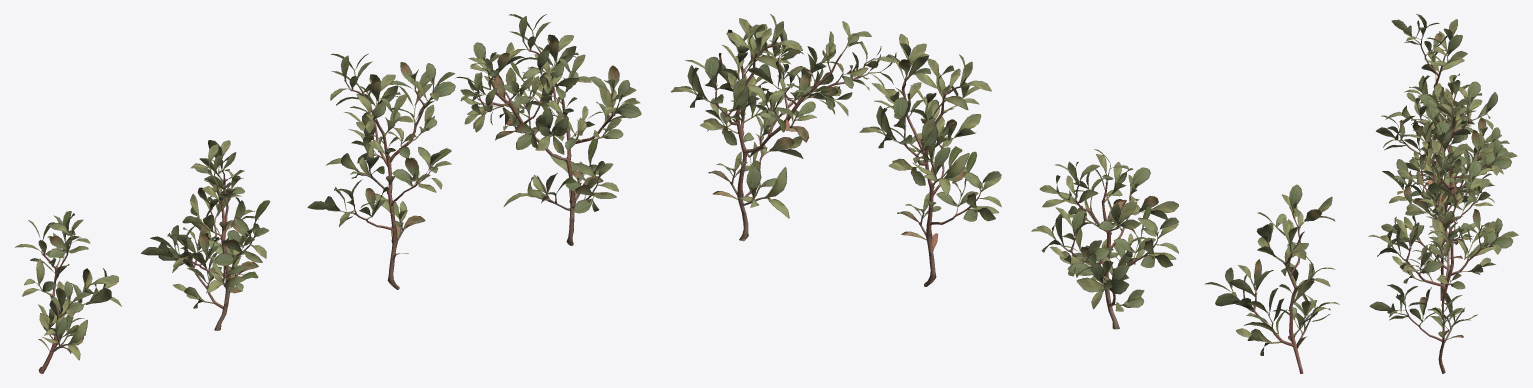
File: shrub_04.gltf
3 renders of one model, left to right at view 1: azimuth 30°, elevation 25°; view 2: azimuth 150°, elevation 25°; view 3: azimuth 270°, elevation 25°, orthographic. The views are drawn at different scales.
Visible parts, largest first — view 1: shrub_04; view 2: shrub_04; view 3: shrub_04.
Part boxes in pixels (x1,y1,x2,y2): shrub_04: [15, 14, 641, 373]; shrub_04: [671, 14, 1339, 373]; shrub_04: [1368, 14, 1518, 373].
Size of the model in its own units: 0.5837 by 0.2192 by 0.1461.
1 material, 1 textured.
